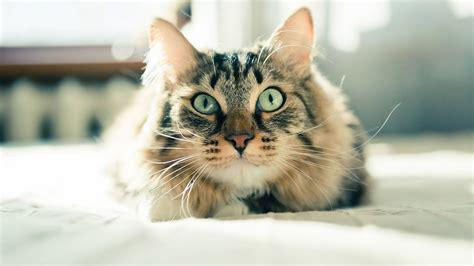cat: (119, 7, 367, 222)
